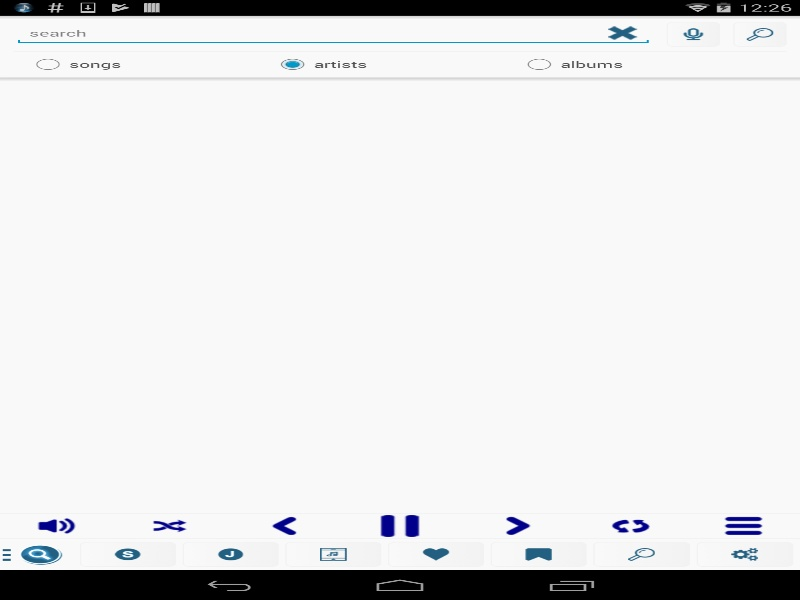Button: (340, 515, 459, 536), (593, 541, 690, 566), (696, 541, 793, 566), (80, 541, 176, 566), (182, 541, 278, 566), (285, 541, 381, 566), (388, 541, 484, 566), (490, 541, 586, 566), (226, 516, 340, 535), (459, 516, 573, 535), (686, 516, 800, 535), (0, 516, 113, 535), (113, 516, 226, 535), (573, 516, 686, 535), (666, 21, 720, 46), (733, 21, 786, 46), (740, 541, 793, 566)
Input: (13, 21, 653, 45)
